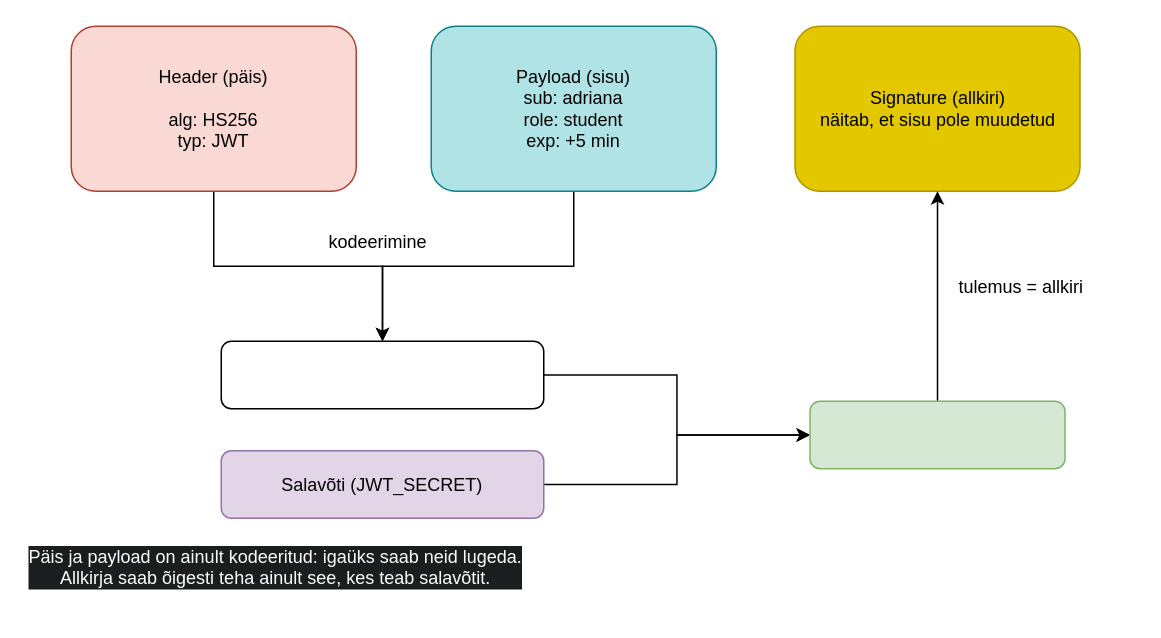
Image size: 1161x638. Some labels were removed from this diagram. The centre of each missing label's shape, as x and y in pixels:
"base64url(päis) . base64url(payload)" goes at [382,374].
"HMAC-SHA256" goes at [936,434].
